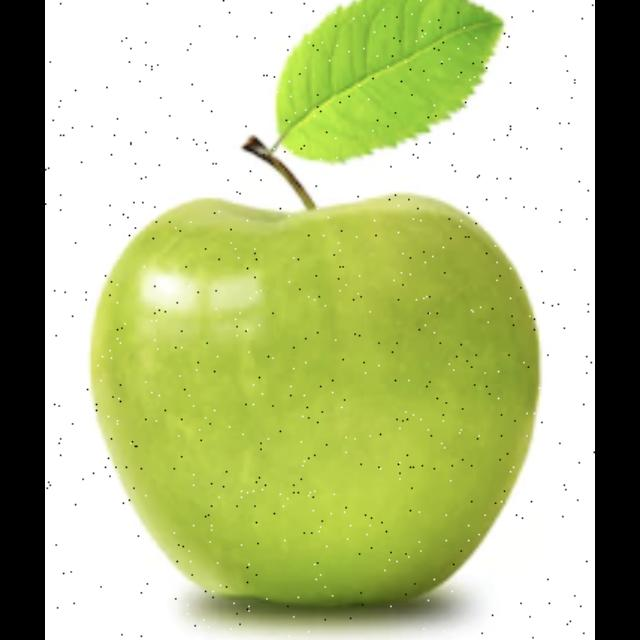Apel Segar: (78, 162, 550, 620)
